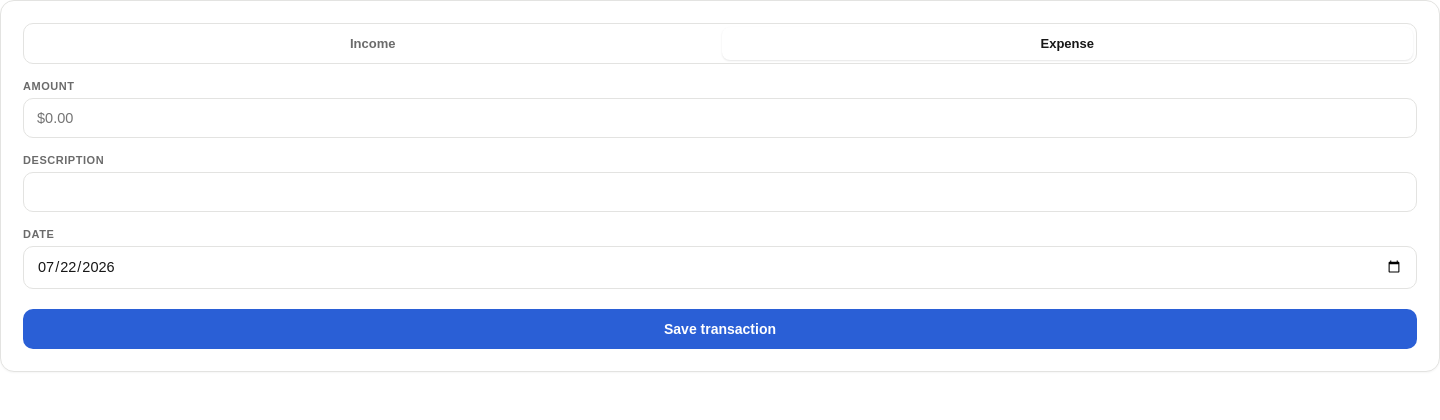
Scenario: AddTransactionForm › rejects a zero or missing amount without saving
The image size is (1440, 420).
Click the button "Save transaction": (720,328) [23, 308, 1417, 348]
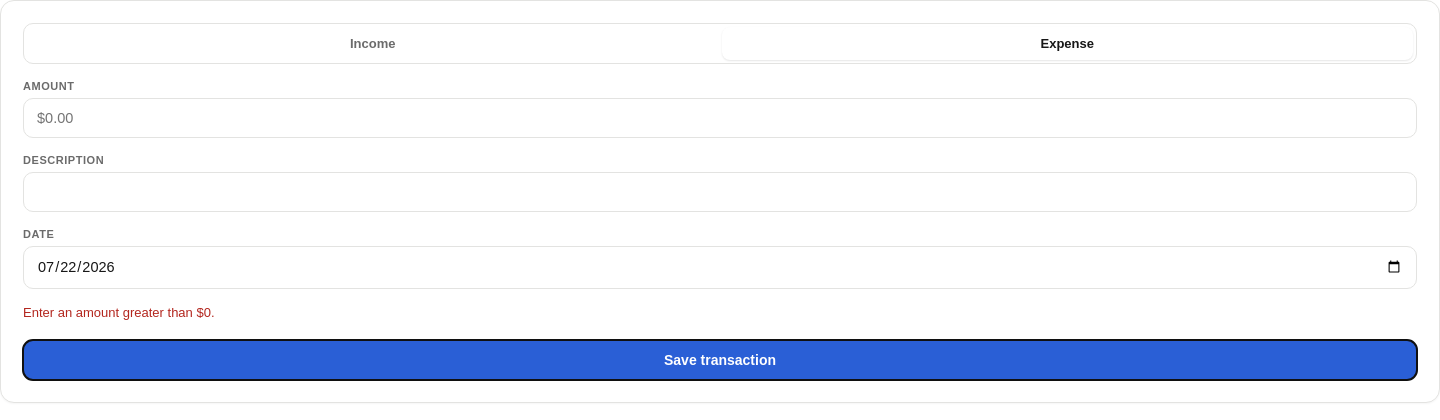
Expected: the text "Enter an amount greater than $0." is shown, [23, 304, 214, 320]
